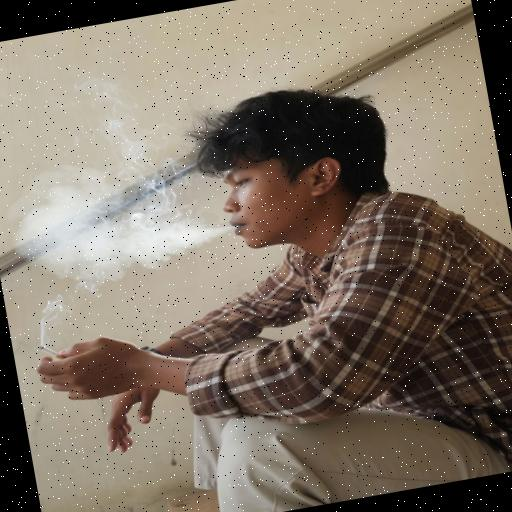asap rokok: (116, 134, 272, 273), (10, 278, 107, 390)
